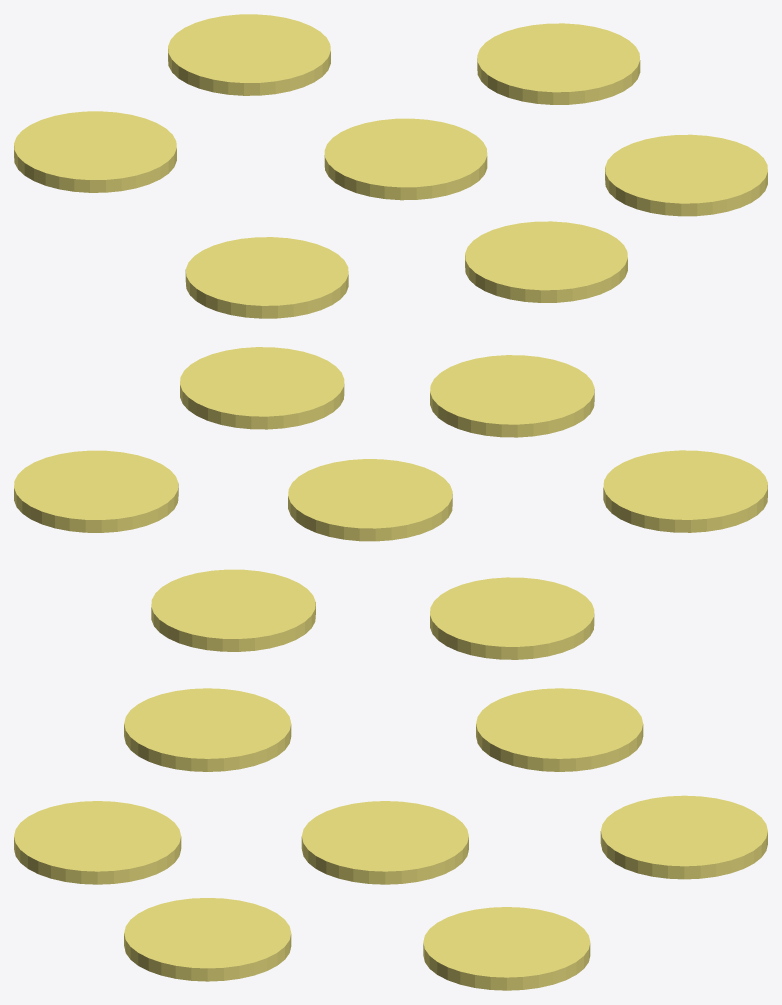
File: bananatopping.fbx
The picture shows the model from 3 angles, top to bottom: view 1: azimuth 30°, elevation 25°; view 2: azimuth 150°, elevation 25°; view 3: azimuth 270°, elevation 25°; orthographic projection. The views are drawn at different scales.
Parts seen in each view (by area): view 1: Cylinder, Cylinder.002, Cylinder.004, Cylinder.003, Cylinder.001, Cylinder.005, Cylinder.006; view 2: Cylinder, Cylinder.003, Cylinder.005, Cylinder.002, Cylinder.001, Cylinder.004, Cylinder.006; view 3: Cylinder.004, Cylinder.002, Cylinder.001, Cylinder.005, Cylinder, Cylinder.006, Cylinder.003.
Boxes of the visible parts, x1=… form: Cylinder: x1=324, y1=118, x2=487, y2=200; Cylinder.002: x1=185, y1=237, x2=348, y2=318; Cylinder.004: x1=477, y1=23, x2=640, y2=104; Cylinder.003: x1=168, y1=14, x2=330, y2=95; Cylinder.001: x1=14, y1=111, x2=176, y2=192; Cylinder.005: x1=465, y1=221, x2=627, y2=302; Cylinder.006: x1=605, y1=134, x2=767, y2=216; Cylinder: x1=288, y1=459, x2=452, y2=541; Cylinder.003: x1=151, y1=569, x2=315, y2=651; Cylinder.005: x1=430, y1=355, x2=594, y2=437; Cylinder.002: x1=603, y1=450, x2=767, y2=532; Cylinder.001: x1=430, y1=577, x2=594, y2=659; Cylinder.004: x1=14, y1=450, x2=178, y2=532; Cylinder.006: x1=180, y1=347, x2=344, y2=429; Cylinder.004: x1=423, y1=907, x2=590, y2=990; Cylinder.002: x1=124, y1=688, x2=291, y2=771; Cylinder.001: x1=476, y1=688, x2=643, y2=771; Cylinder.005: x1=14, y1=801, x2=181, y2=884; Cylinder: x1=301, y1=801, x2=468, y2=884; Cylinder.006: x1=124, y1=898, x2=291, y2=981; Cylinder.003: x1=600, y1=795, x2=767, y2=879.
Size of the model in its own units: 280 by 5.91 by 308.
